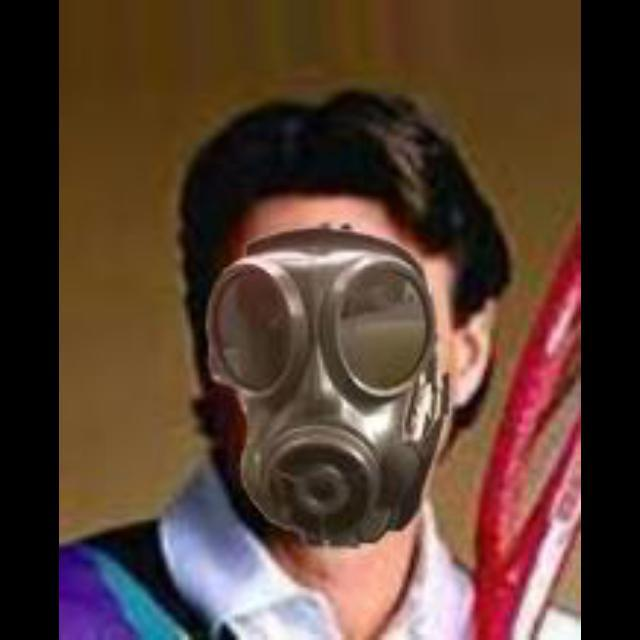suspicion: (199, 53, 489, 569)
